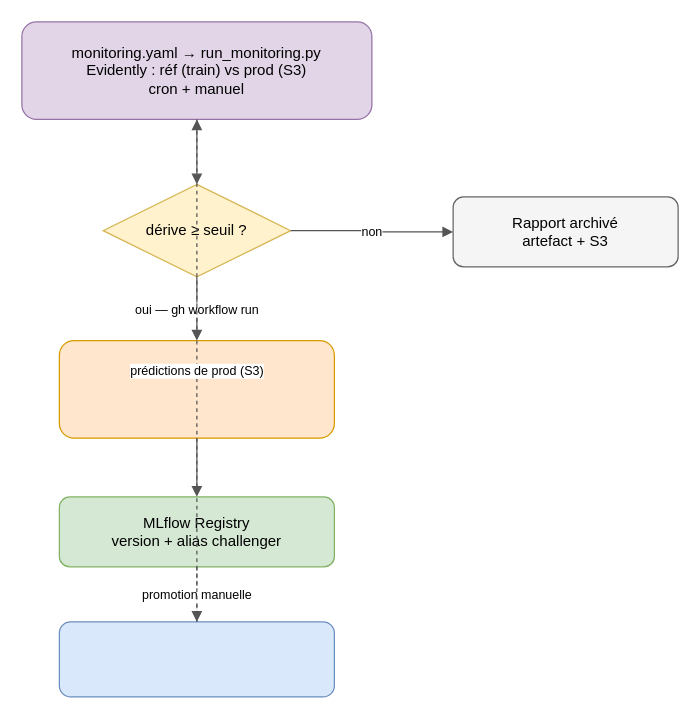
Image size: 700x719. Some labels were removed from this diagram. The box of each missing label's shape, as (x1, y1, x2, y2) in pixels:
API Modèle sert @production promotion MANUELLE: (58, 621, 334, 697)
train.yaml → train.py split · tuning · métriques alias = challenger: (58, 339, 334, 438)
